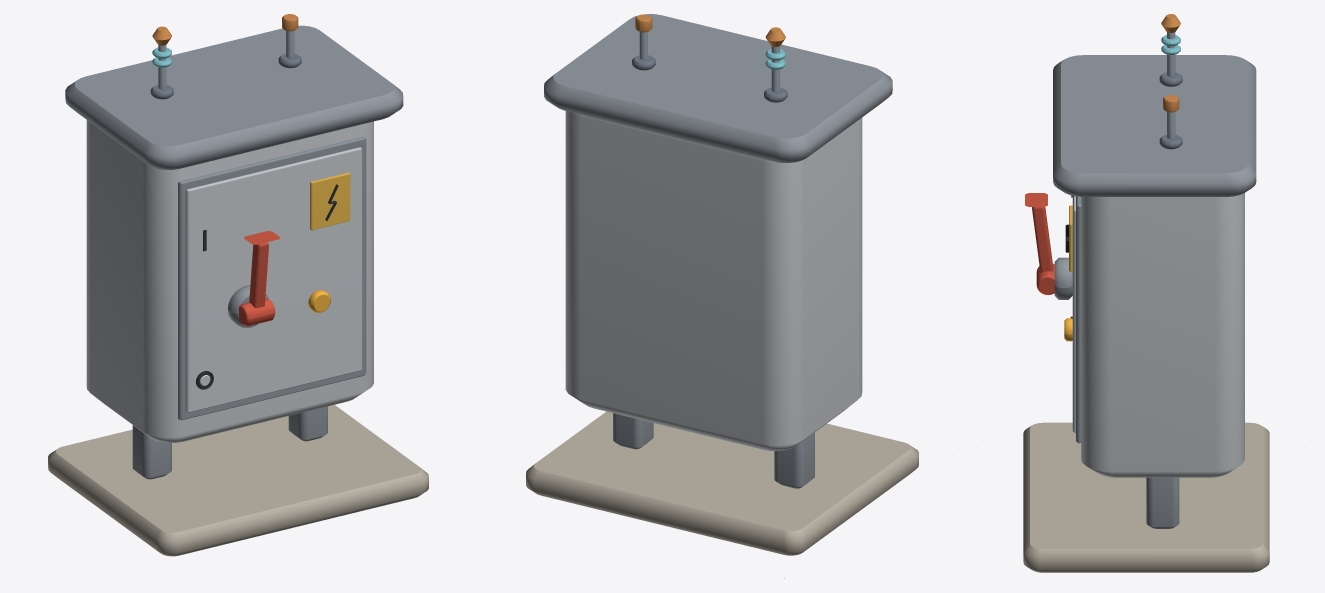
File: disjoncteur.glb
3 views of the same model, side by side, from view 1: azimuth 30°, elevation 25°; view 2: azimuth 150°, elevation 25°; view 3: azimuth 270°, elevation 25° (orthographic). The views are drawn at different scales.
Parts seen in each view (by area): view 1: pieces_coffret.006, pieces_coffret_sombre.004, pieces_socle_beton.006, levier_levier_rouge.002, pieces_panneau_jaune.004; view 2: pieces_coffret.006, pieces_coffret_sombre.004, pieces_socle_beton.006, pieces_isolateur_cuivre.008; view 3: pieces_coffret.006, pieces_coffret_sombre.004, pieces_socle_beton.006, levier_levier_rouge.002, pieces_isolateur_cuivre.008, pieces_pylone_sombre.006, pieces_pylone.006.
Part boxes in pixels (<box>): pieces_coffret.006: <box>86,120,373,442</box>; pieces_coffret_sombre.004: <box>65,25,403,479</box>; pieces_socle_beton.006: <box>48,405,428,556</box>; levier_levier_rouge.002: <box>238,231,280,326</box>; pieces_panneau_jaune.004: <box>310,172,350,230</box>; pieces_coffret.006: <box>565,111,862,450</box>; pieces_coffret_sombre.004: <box>544,14,892,488</box>; pieces_socle_beton.006: <box>526,411,918,555</box>; pieces_isolateur_cuivre.008: <box>635,14,785,46</box>; pieces_coffret.006: <box>1072,193,1244,477</box>; pieces_coffret_sombre.004: <box>1053,55,1256,528</box>; pieces_socle_beton.006: <box>1023,422,1269,572</box>; levier_levier_rouge.002: <box>1025,193,1054,294</box>; pieces_isolateur_cuivre.008: <box>1161,14,1180,112</box>; pieces_pylone_sombre.006: <box>1159,72,1182,149</box>; pieces_pylone.006: <box>1167,32,1175,139</box>.
Size of the model in its own units: 1 by 1.55 by 1.
